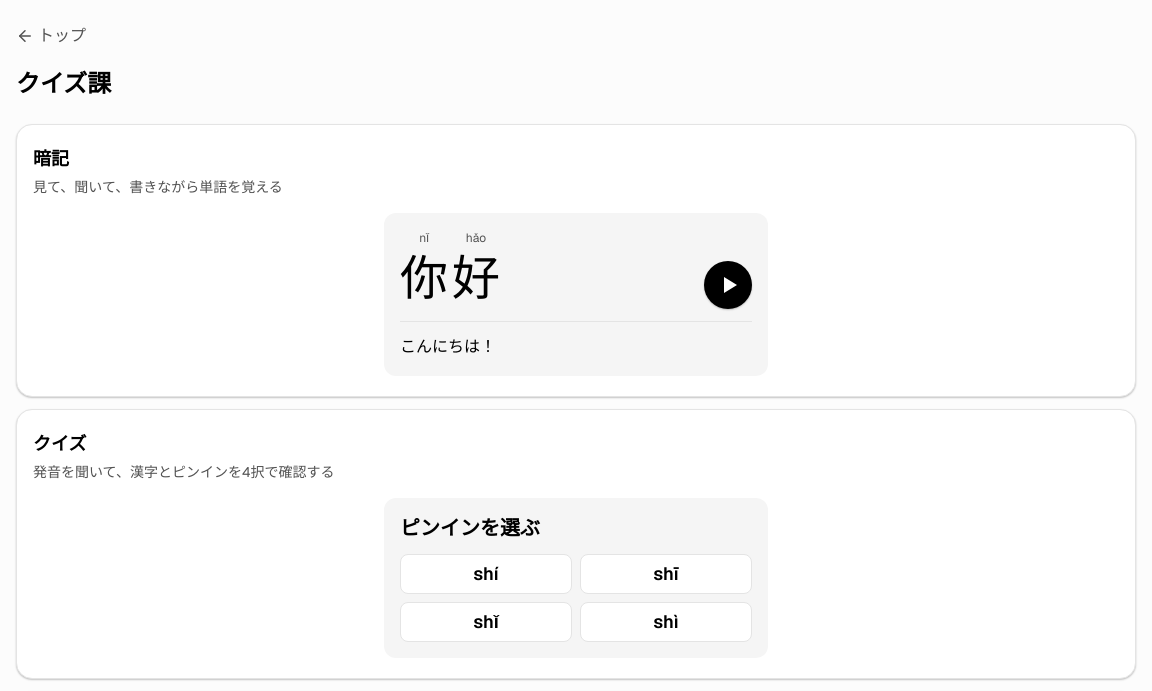
Scenario: LessonRunner › モード選択画面 › クイズ設定画面へ遷移できること
The width and height of the screenshot is (1152, 691).
Click the button "クイズ 発音を聞いて、漢字とピンインを4択で確認する ピンインを選ぶ shí shī shǐ shì": (83, 544) [16, 408, 1136, 678]
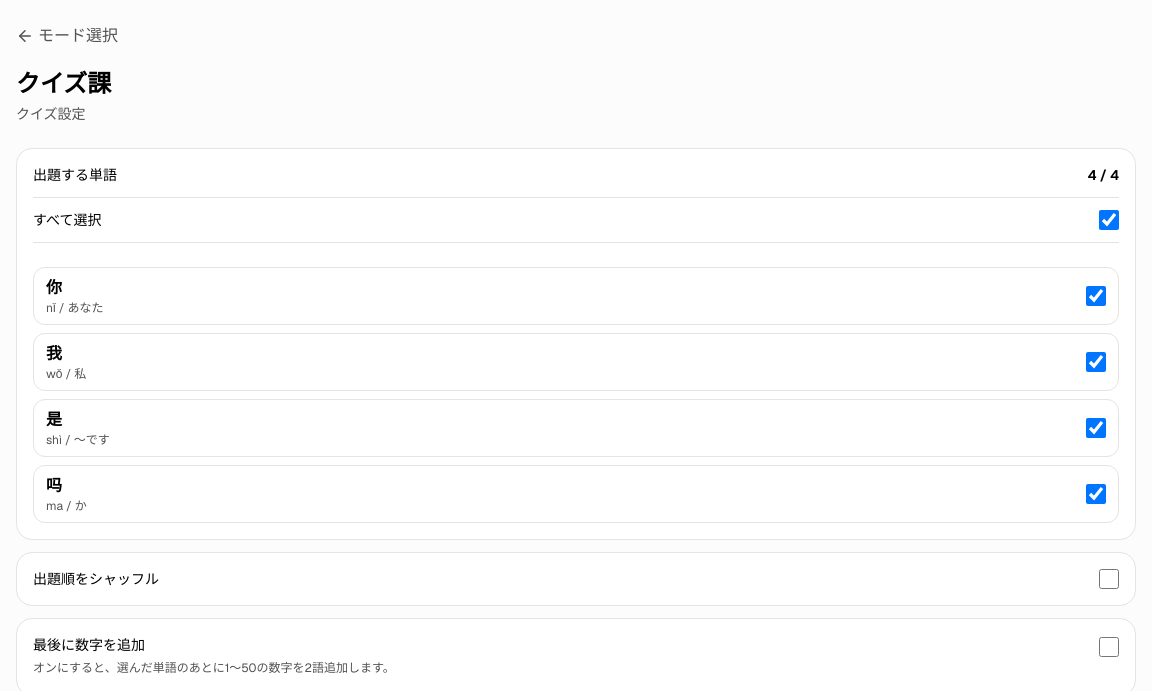
Expected: the text "クイズ設定" is shown, [16, 105, 86, 123]
Expected: the heading "出題する単語" is shown, [33, 165, 117, 185]
